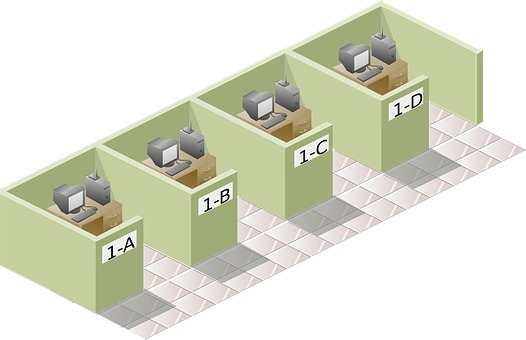tvmonitor: (236, 85, 278, 122), (49, 181, 93, 216), (144, 133, 182, 170), (336, 38, 372, 74)
